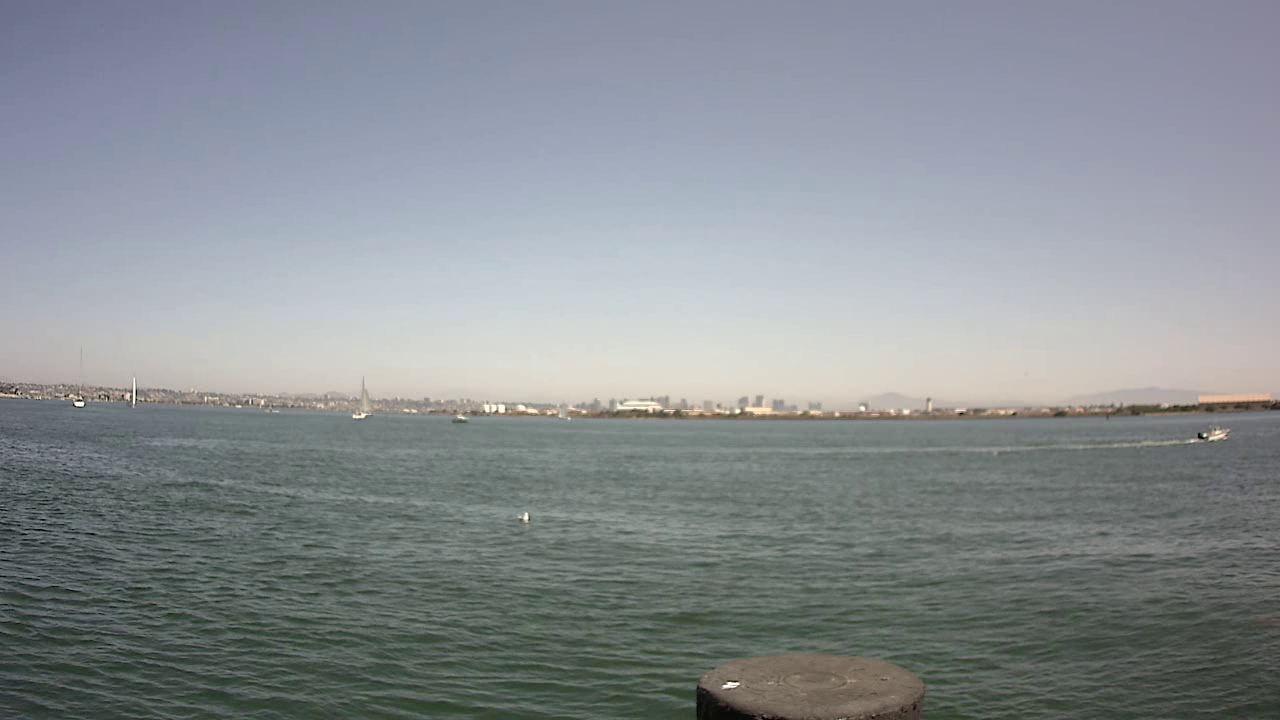target: (1192, 418, 1236, 447)
